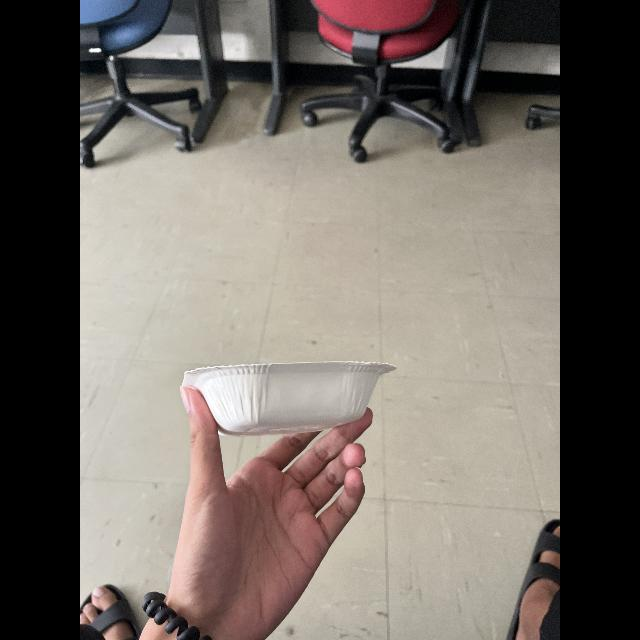cardboard_bowl: (180, 351, 398, 441)
